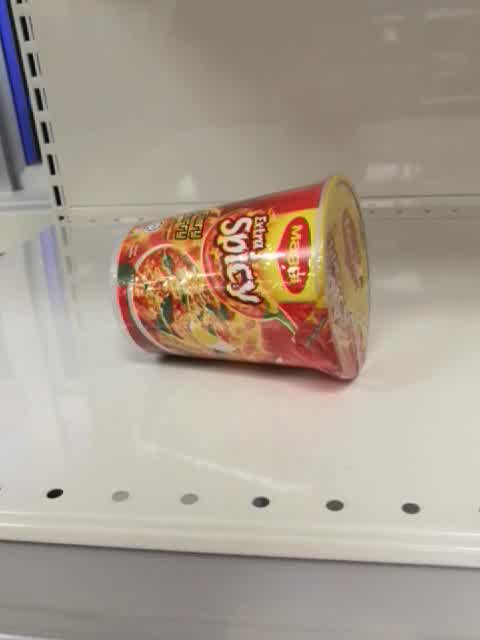maggi: (117, 170, 373, 383)
